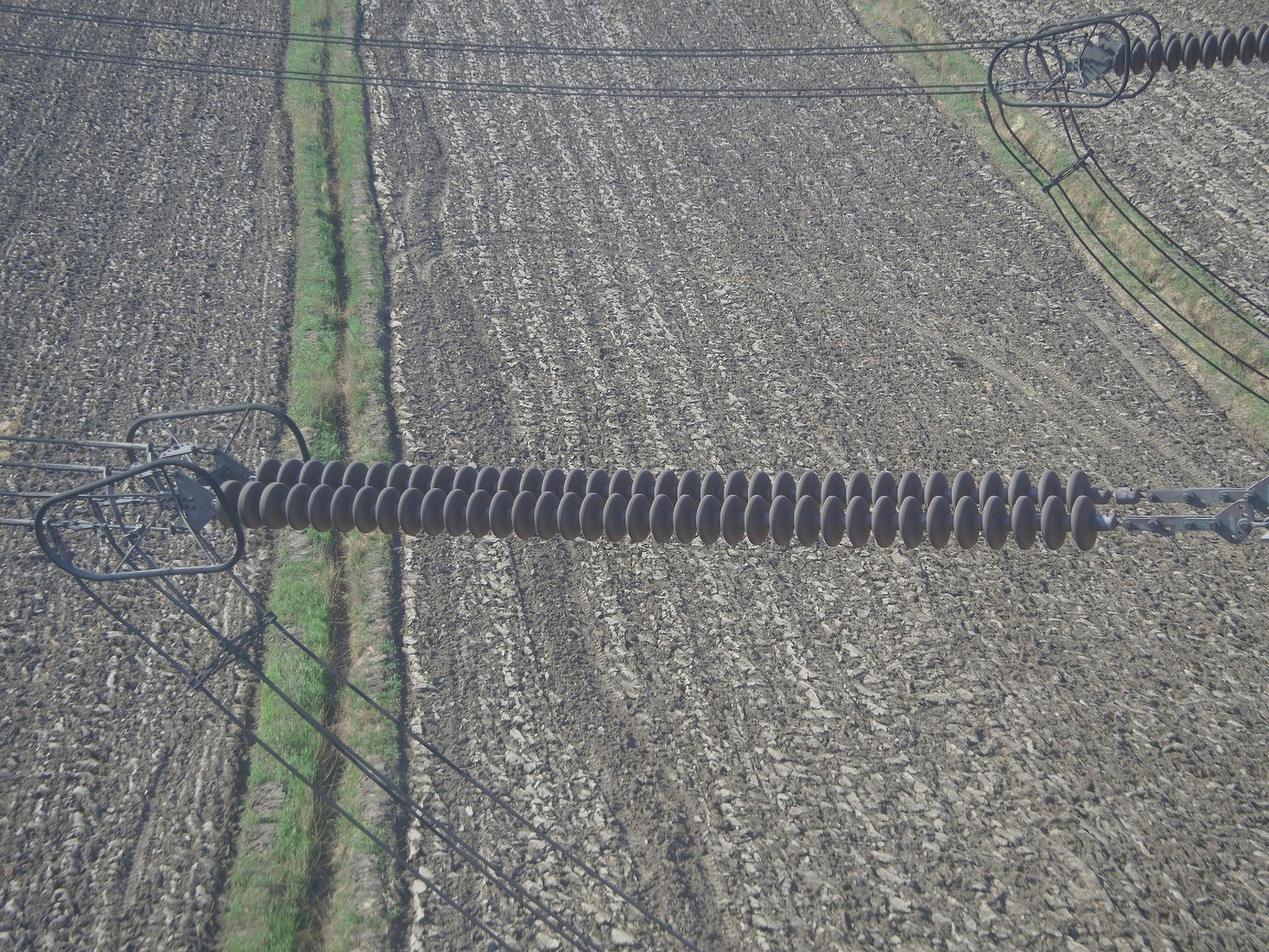insulator: (212, 451, 1110, 555), (1107, 16, 1269, 84)
